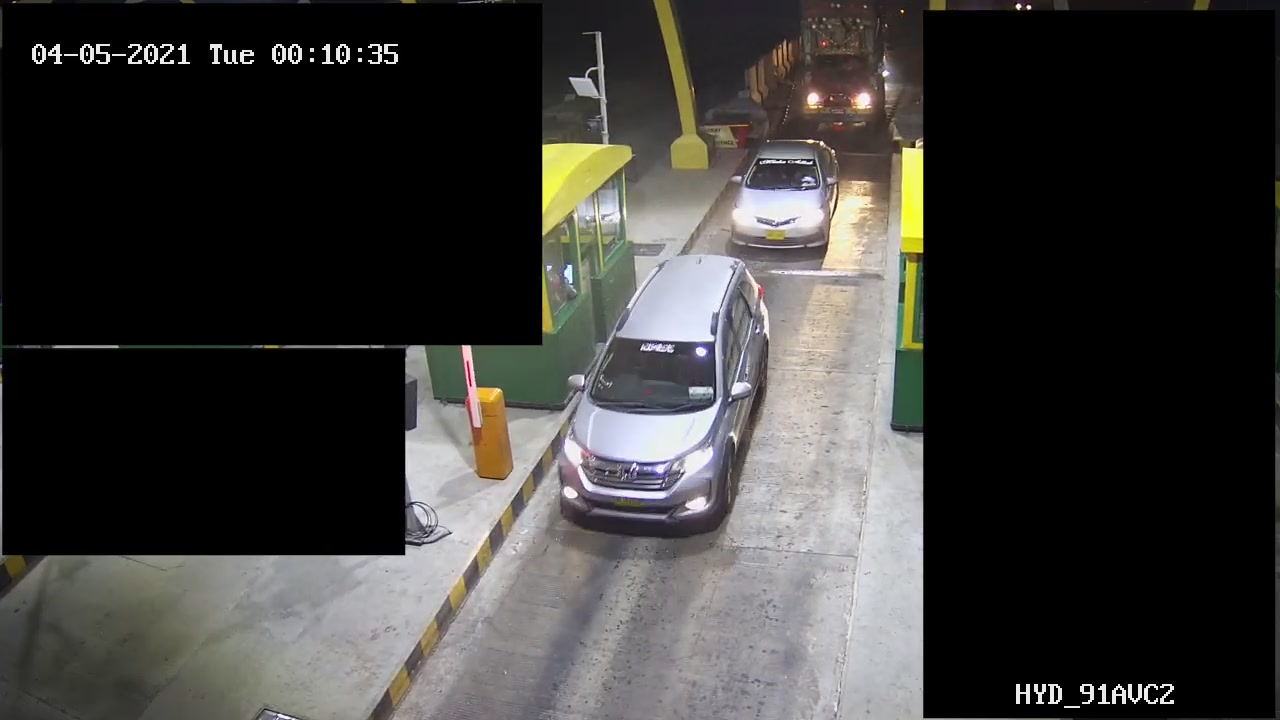F1: (543, 252, 803, 526), (713, 137, 862, 250)
